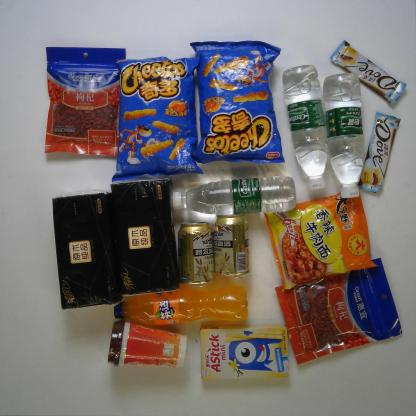Alcohol: (212, 213, 251, 280), (177, 221, 215, 288)
Chocolate: (330, 39, 407, 106), (357, 110, 402, 196)
Dessert: (199, 323, 291, 381)
Dried Fruit: (274, 257, 403, 365), (43, 46, 127, 156)
Drink: (282, 63, 330, 191), (322, 71, 366, 200), (113, 286, 249, 327), (172, 175, 297, 217)
Instant Drink: (106, 318, 188, 369)
Instant Noodles: (263, 189, 379, 291)
Puffed Food: (189, 39, 287, 166), (111, 54, 204, 184)
Tissue: (52, 188, 124, 311), (110, 177, 181, 298)
